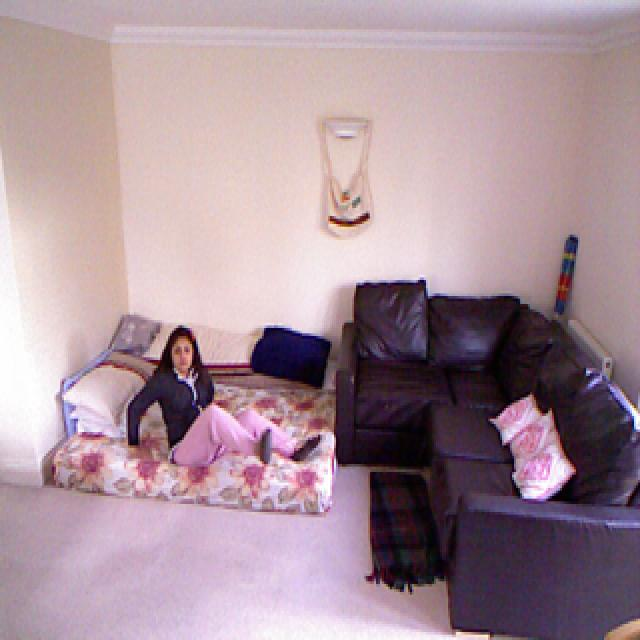sitting: (127, 332, 332, 493)
